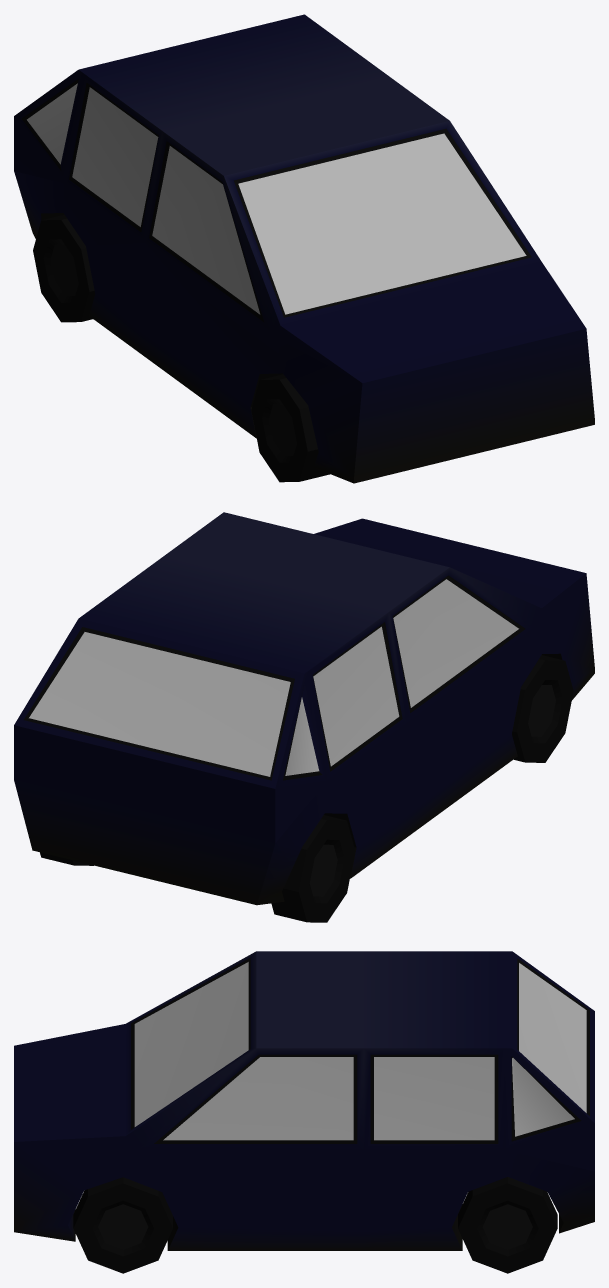
Rendered from pathfinder.fbx.
The picture shows the model from 3 angles, top to bottom: view 1: azimuth 30°, elevation 25°; view 2: azimuth 150°, elevation 25°; view 3: azimuth 270°, elevation 25°; orthographic projection. The views are drawn at different scales.
Parts seen in each view (by area): view 1: pathfinder; view 2: pathfinder; view 3: pathfinder.
Part boxes in pixels (<box>): pathfinder: <box>14,14,594,483</box>; pathfinder: <box>14,512,594,922</box>; pathfinder: <box>14,951,594,1273</box>.
Bounding box in the file's own units: 203 × 180 × 437.
